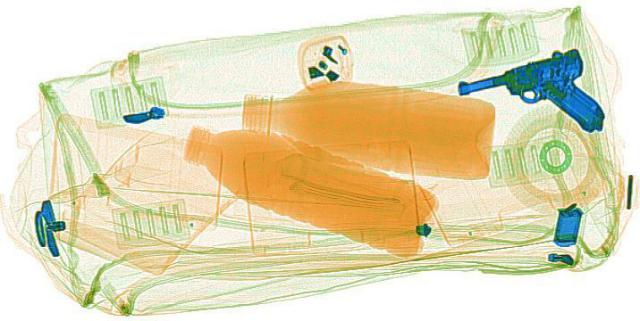Gun: (448, 53, 638, 145)
